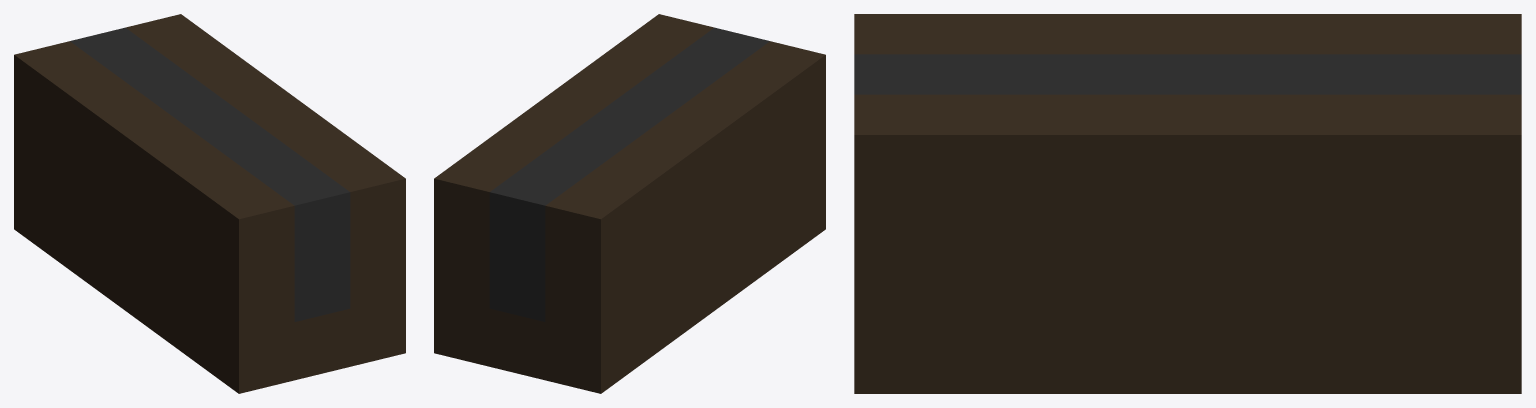
File: Pump.glb
The picture shows the model from 3 angles, left to right: view 1: azimuth 30°, elevation 25°; view 2: azimuth 150°, elevation 25°; view 3: azimuth 270°, elevation 25°; orthographic projection. The views are drawn at different scales.
Parts seen in each view (by area): view 1: Pump; view 2: Pump; view 3: Pump.
Part boxes in pixels (left/top/right/bottom): Pump: left=14, top=14, right=405, bottom=393; Pump: left=434, top=14, right=825, bottom=393; Pump: left=854, top=14, right=1521, bottom=393.
Size of the model in its own units: 3 by 3 by 7.
